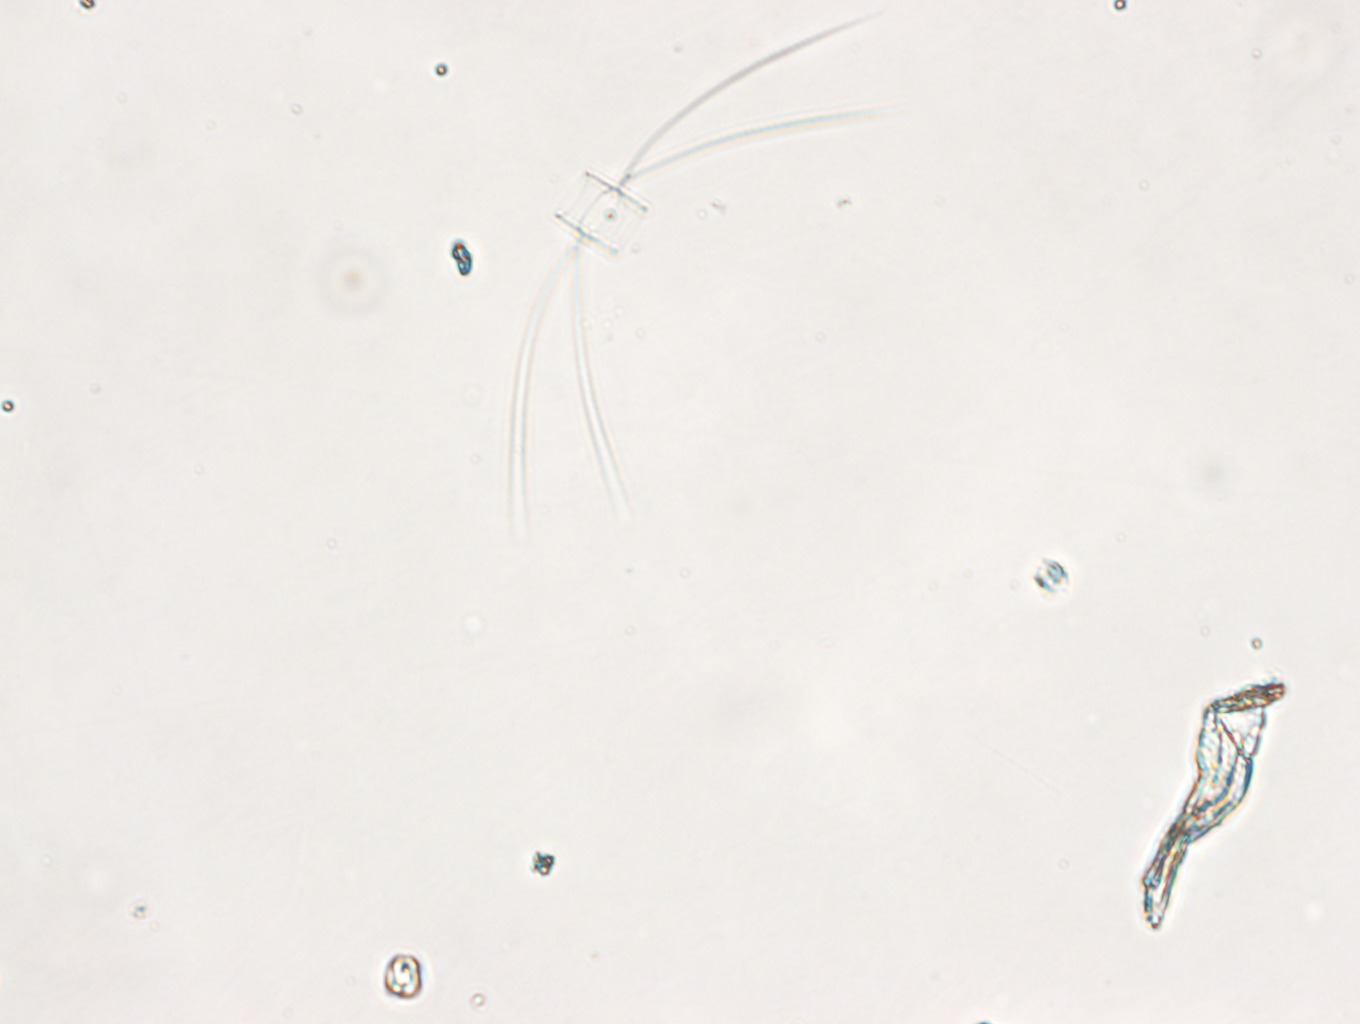chaetoceros: (501, 15, 894, 534)
